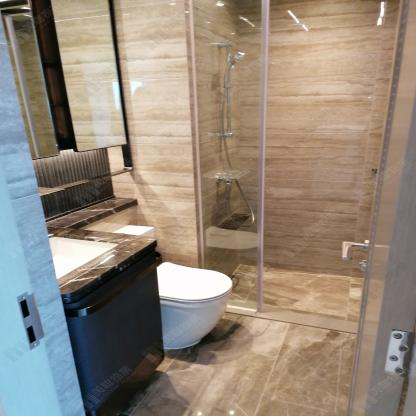Toilet: (157, 262, 234, 350), (111, 225, 154, 237)
Toilet Sink: (46, 225, 158, 304)
Water Cubicle: (191, 0, 401, 334)
